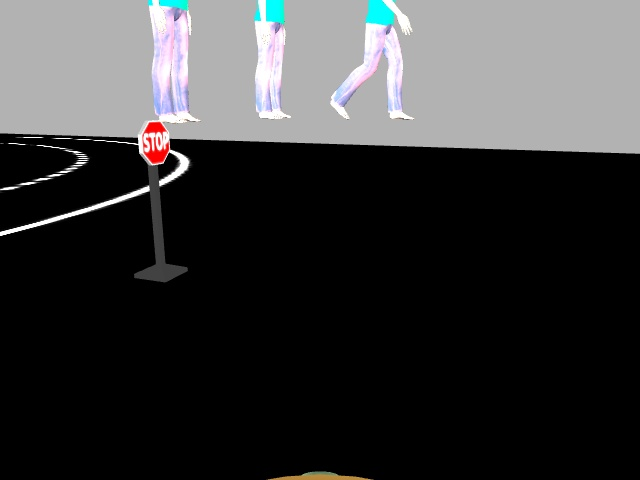Stop: (136, 118, 168, 164)
